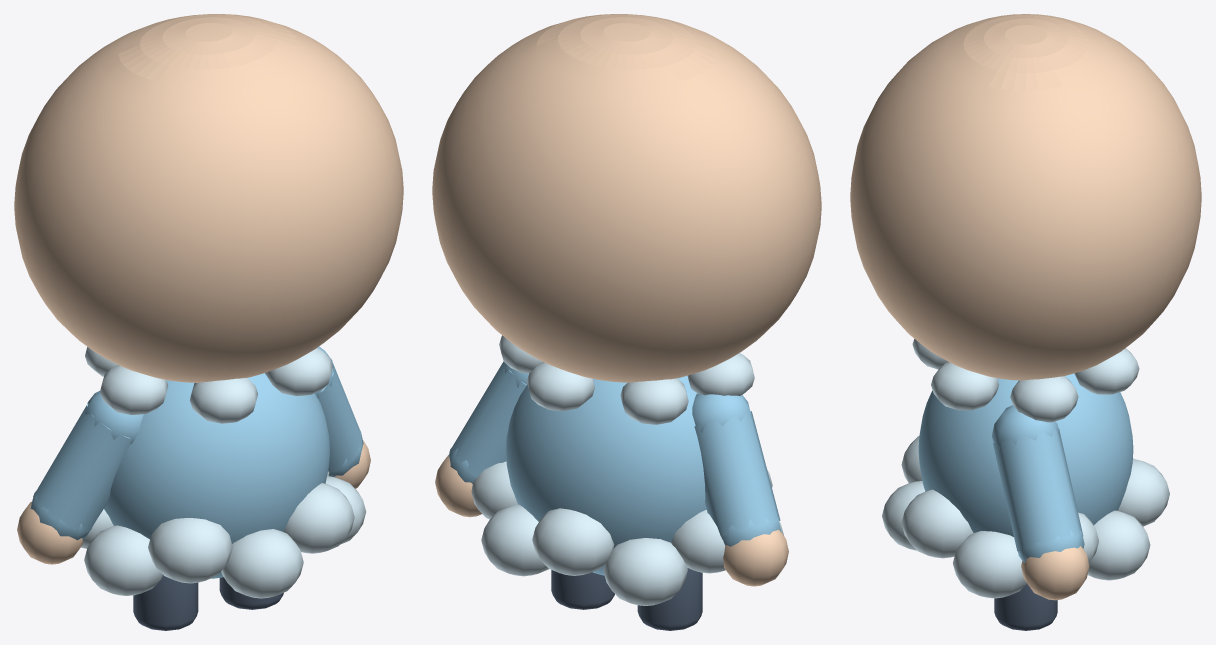
File: Body_Fluffy.fbx
3 renders of one model, left to right at view 1: azimuth 30°, elevation 25°; view 2: azimuth 150°, elevation 25°; view 3: azimuth 270°, elevation 25°, orthographic. The views are drawn at different scales.
Visible parts, largest first — view 1: Head, Body, Arm.001, Fluff.001, Fluff, Fluff.002, Fluff.009, Leg.001, Fluff.010, Arm, Fluff.011, Hand.001 (+6 smaller); view 2: Head, Body, Arm.001, Fluff.004, Fluff.005, Arm, Fluff.006, Hand.001, Fluff.012, Fluff.013, Fluff.003, Leg.001 (+7 smaller); view 3: Head, Body, Arm, Fluff.008, Fluff.009, Fluff.006, Hand, Fluff.014, Fluff.015, Fluff.005, Leg, Fluff.013 (+5 smaller).
Part boxes in pixels (x1,y1,x2,y2): Head: [14, 14, 403, 382]; Body: [104, 373, 330, 578]; Arm.001: [33, 404, 131, 531]; Fluff.001: [148, 518, 232, 583]; Fluff: [221, 529, 303, 598]; Fluff.002: [84, 525, 163, 595]; Fluff.009: [284, 483, 354, 553]; Leg.001: [133, 575, 198, 630]; Fluff.010: [190, 378, 257, 423]; Arm: [318, 363, 362, 471]; Fluff.011: [100, 365, 168, 415]; Hand.001: [17, 501, 82, 564]; Head: [432, 14, 821, 382]; Body: [505, 375, 706, 575]; Arm.001: [694, 411, 780, 536]; Fluff.004: [603, 538, 687, 605]; Fluff.005: [532, 508, 614, 575]; Arm: [451, 361, 526, 476]; Fluff.006: [481, 504, 548, 576]; Hand.001: [723, 530, 788, 586]; Fluff.012: [620, 378, 688, 424]; Fluff.013: [526, 362, 594, 411]; Fluff.003: [671, 510, 725, 573]; Leg.001: [637, 568, 702, 630]; Head: [850, 14, 1201, 380]; Body: [918, 373, 1133, 536]; Arm: [993, 429, 1083, 551]; Fluff.008: [953, 531, 1026, 598]; Fluff.009: [901, 489, 973, 558]; Fluff.006: [1087, 510, 1150, 580]; Hand: [1021, 546, 1089, 600]; Fluff.014: [1010, 376, 1078, 422]; Fluff.015: [931, 362, 999, 410]; Fluff.005: [1118, 459, 1169, 526]; Leg: [994, 584, 1057, 630]; Fluff.013: [1074, 348, 1139, 394].
Size of the model in its own units: 80 by 128 by 72.
